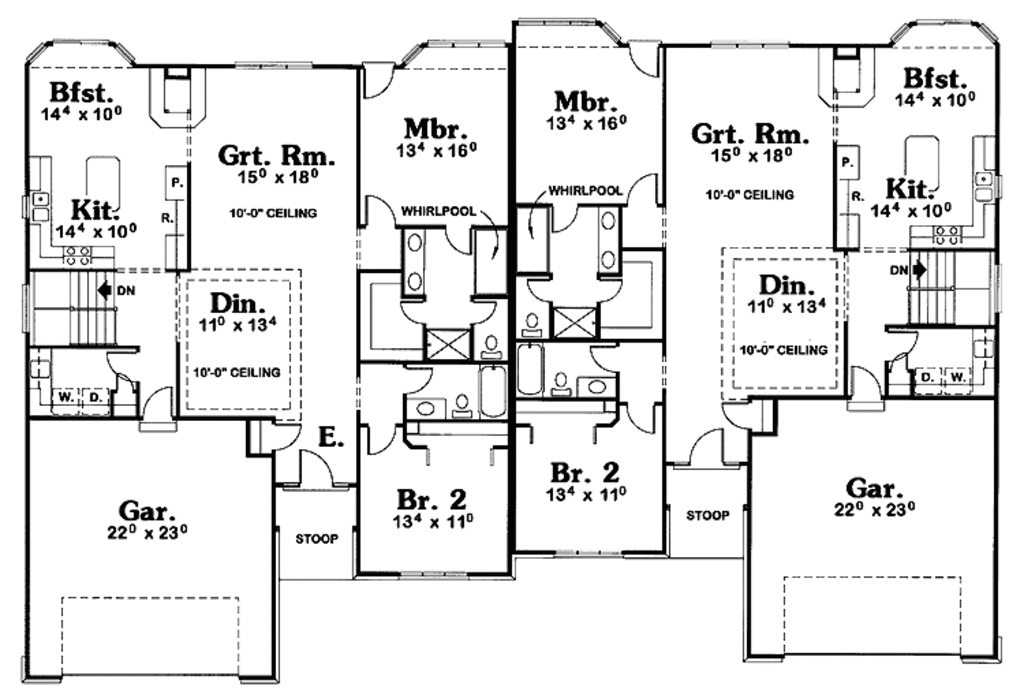door: (833, 358, 886, 412), (287, 445, 341, 494), (678, 424, 735, 468), (710, 384, 759, 431), (136, 386, 181, 432), (628, 35, 675, 79), (354, 58, 395, 104), (351, 186, 397, 226), (544, 199, 587, 238), (362, 422, 401, 461), (622, 171, 668, 204), (585, 338, 623, 375), (621, 398, 659, 435), (440, 217, 474, 258), (268, 415, 305, 451), (102, 347, 141, 381), (883, 329, 919, 364), (400, 361, 436, 395), (592, 276, 631, 304), (397, 297, 433, 327), (520, 271, 554, 302), (470, 297, 502, 325), (102, 371, 139, 395), (886, 353, 915, 379)
large_sink: (479, 330, 510, 362), (518, 307, 544, 339), (452, 393, 476, 422), (549, 370, 573, 399)
small_sink: (401, 226, 426, 295), (597, 207, 621, 271), (400, 397, 449, 424), (575, 378, 613, 398)
stairs: (26, 269, 123, 344), (909, 248, 995, 327)
tub: (477, 362, 510, 418), (518, 339, 546, 396)
twin_sink: (27, 189, 59, 227), (968, 168, 994, 200)
window: (233, 56, 322, 76), (701, 33, 789, 53), (395, 566, 470, 584), (423, 38, 505, 52), (18, 276, 34, 338), (510, 14, 599, 25), (546, 549, 626, 561), (995, 263, 1004, 320), (910, 18, 973, 26)
